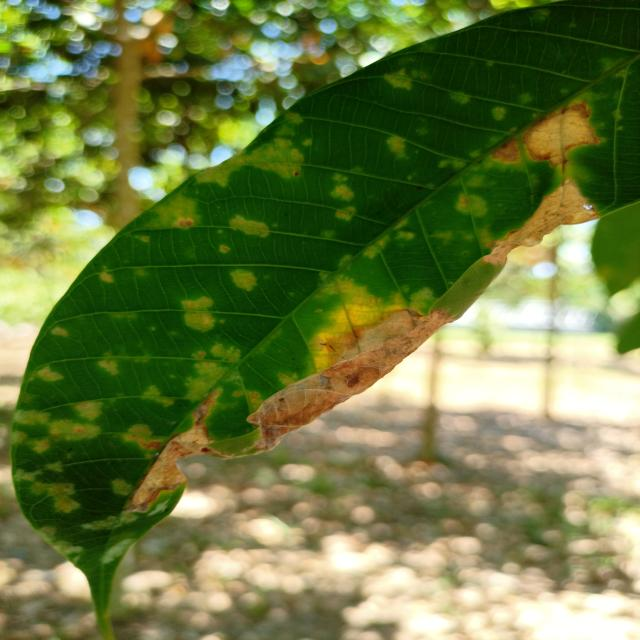Leaf-Blight: (247, 309, 456, 453), (482, 180, 598, 265), (128, 423, 213, 508), (524, 101, 603, 166), (489, 138, 520, 163)
